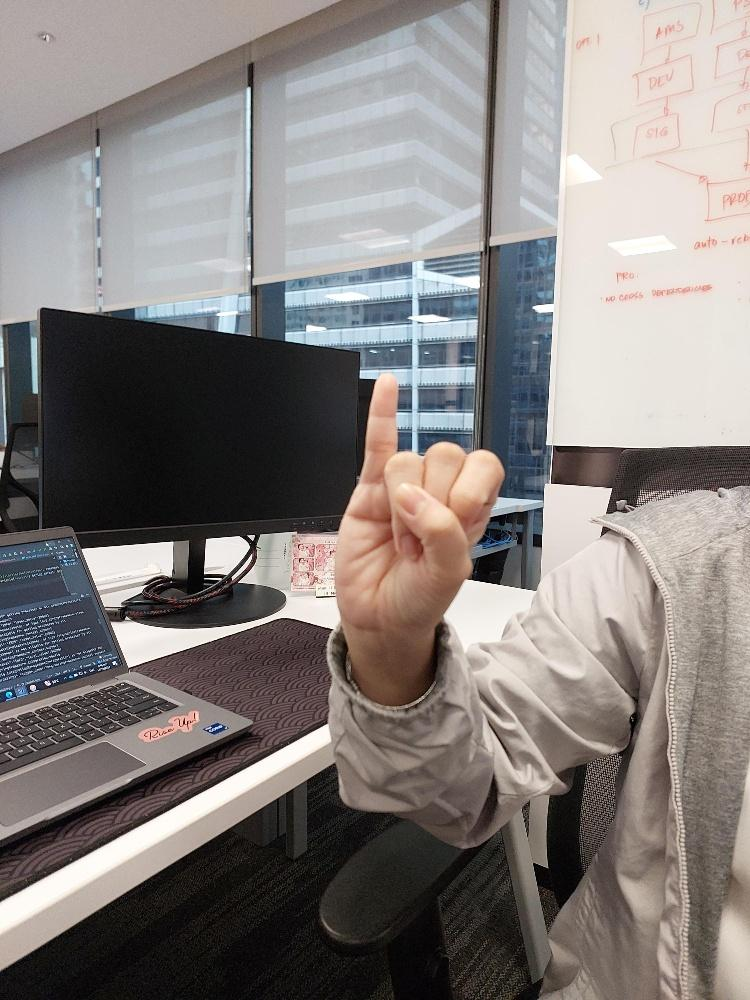i: (329, 373, 504, 629)
